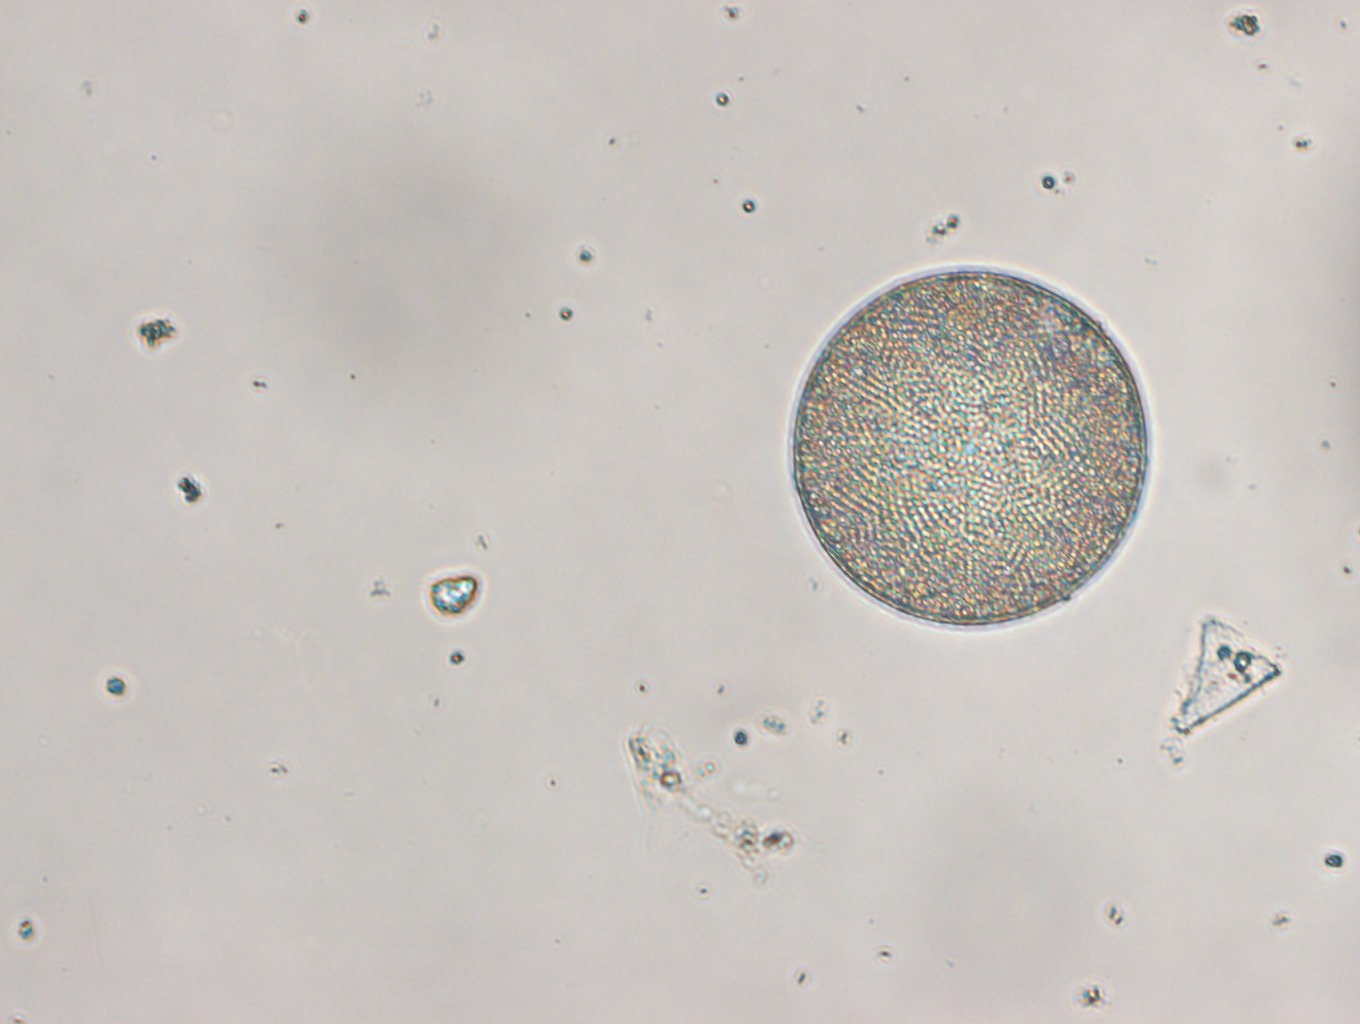coscinodiscus: (786, 266, 1150, 630)
